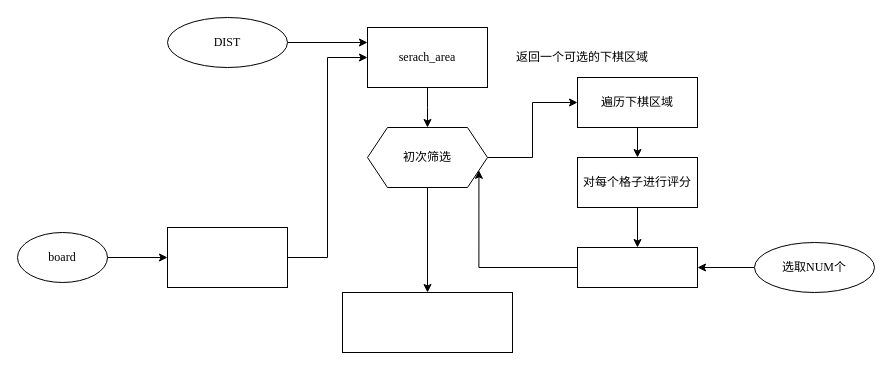
This 892x370 diagram has some shape labels left out. The shapes that lost their labels are listed below. From the top down, each one's box as (x1, y1, x2, y2) in pixels, then its label:
(166, 226, 288, 288): make_move
(576, 246, 698, 288): 挑选较优的落点
(342, 292, 512, 352): 对NUM个落点情况进行maxmin
